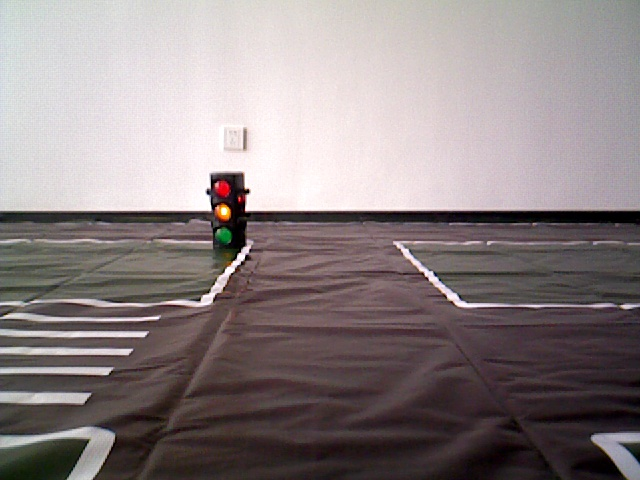yellow: (213, 172, 246, 245)
